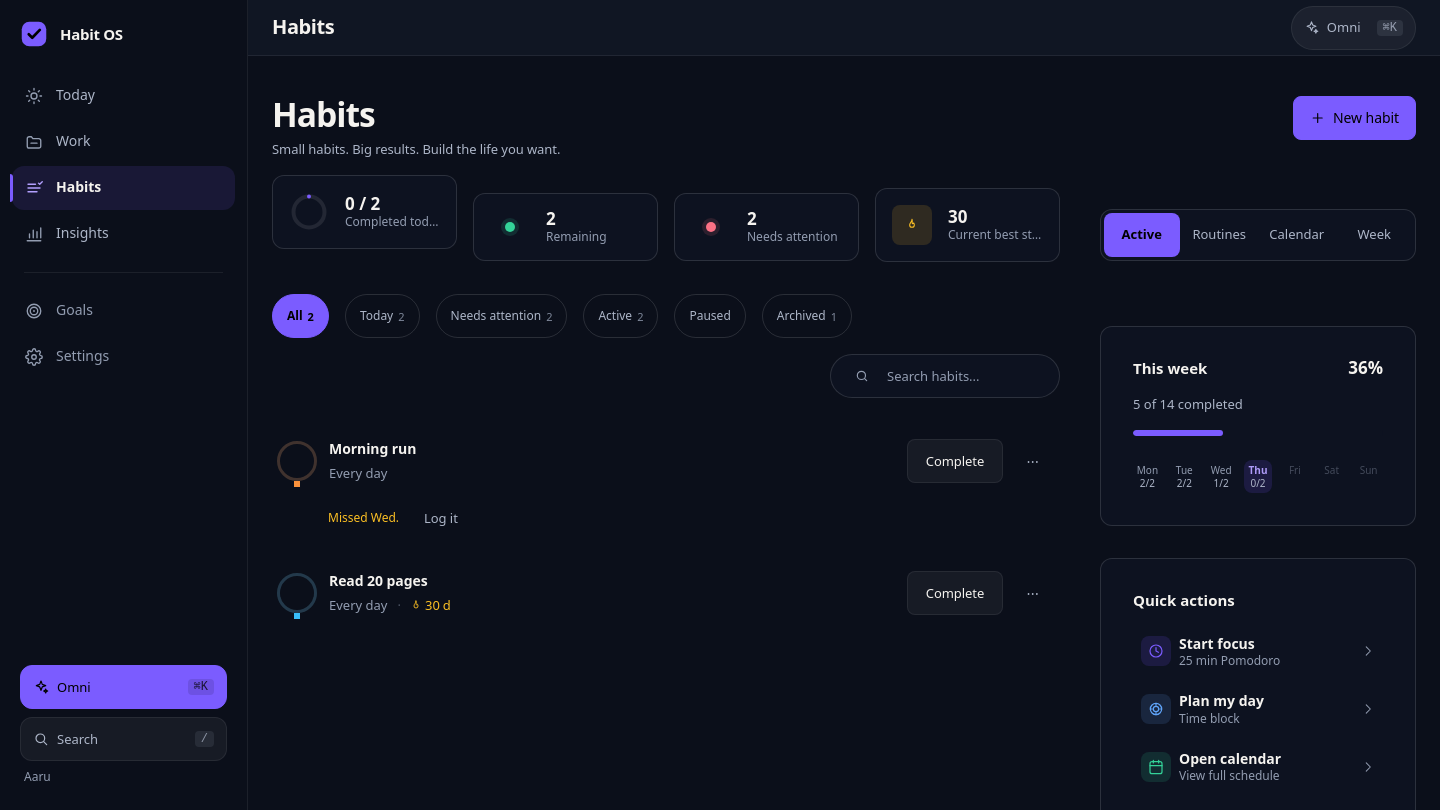
active habits › a recent miss is logged inline instead of on a separate card
Expected: the text "Missed Wed." is shown, [328,510,399,526]
What coordinates should you click on to do the following:
click the button with aria-label "Log Morning run for"
I would click on:
 (441, 518)
Its box is [415,496,467,540].
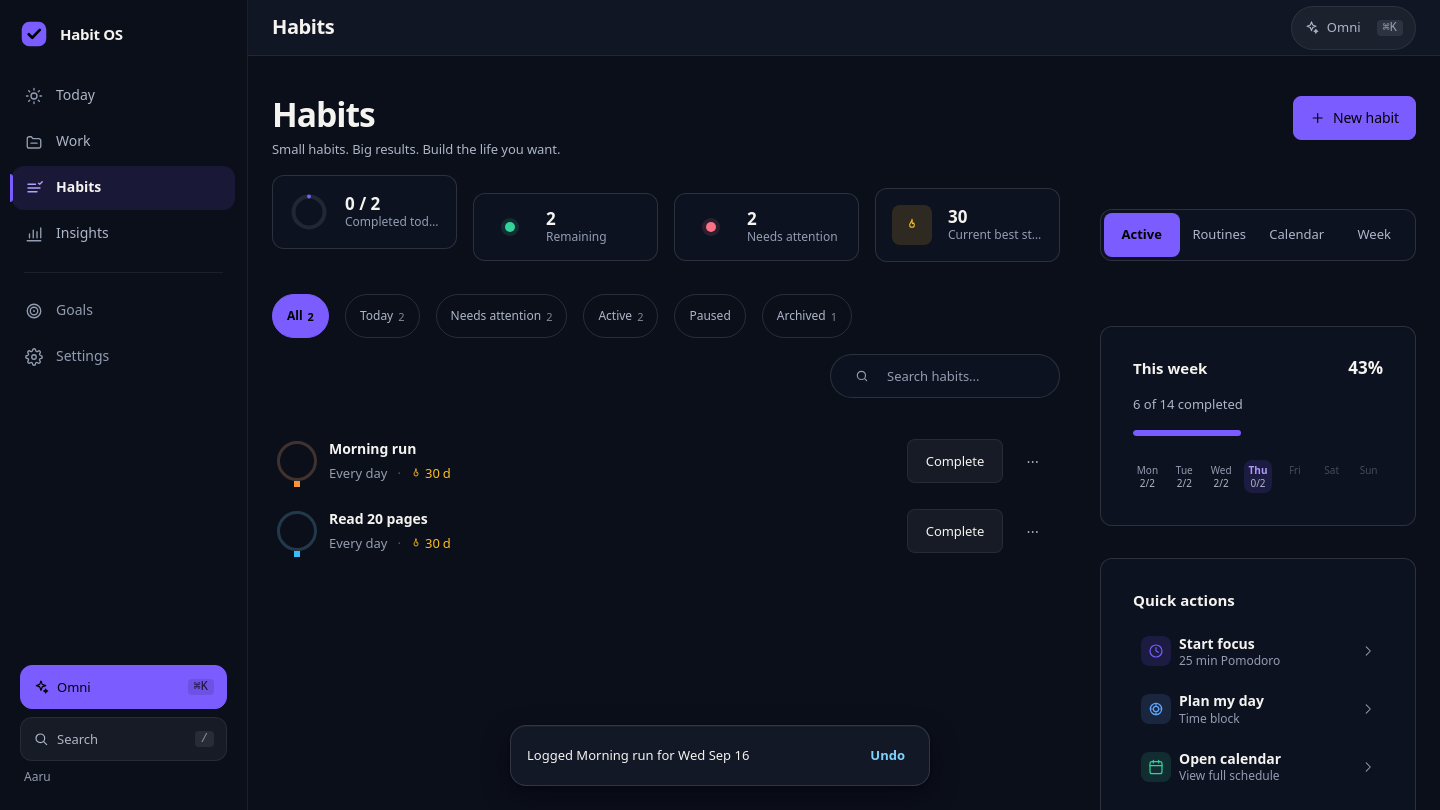
Result: the text "Missed " is gone
